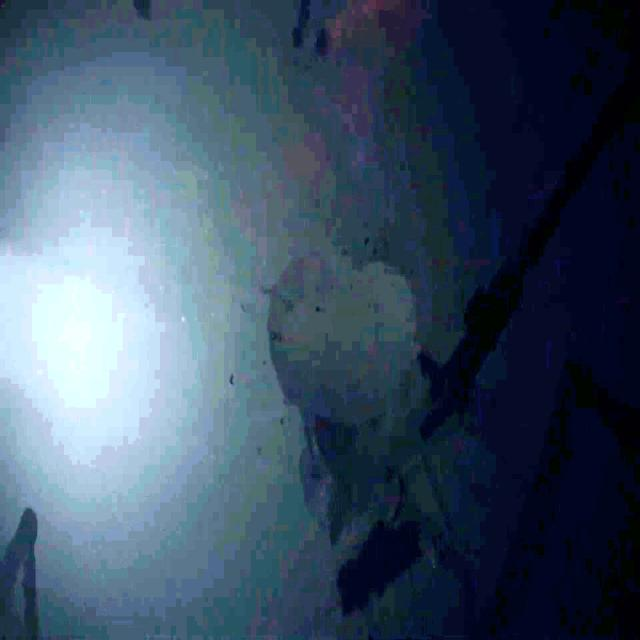blob: (268, 254, 420, 452)
mechanism: (0, 508, 37, 639)
